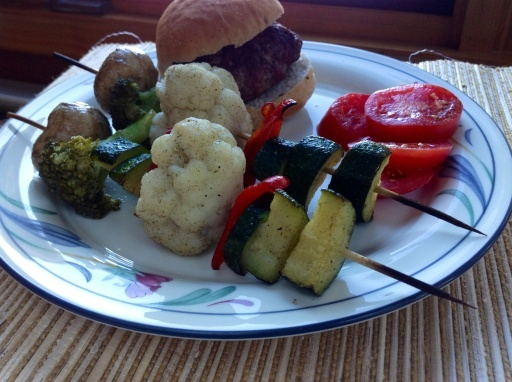background: (25, 0, 370, 177)
